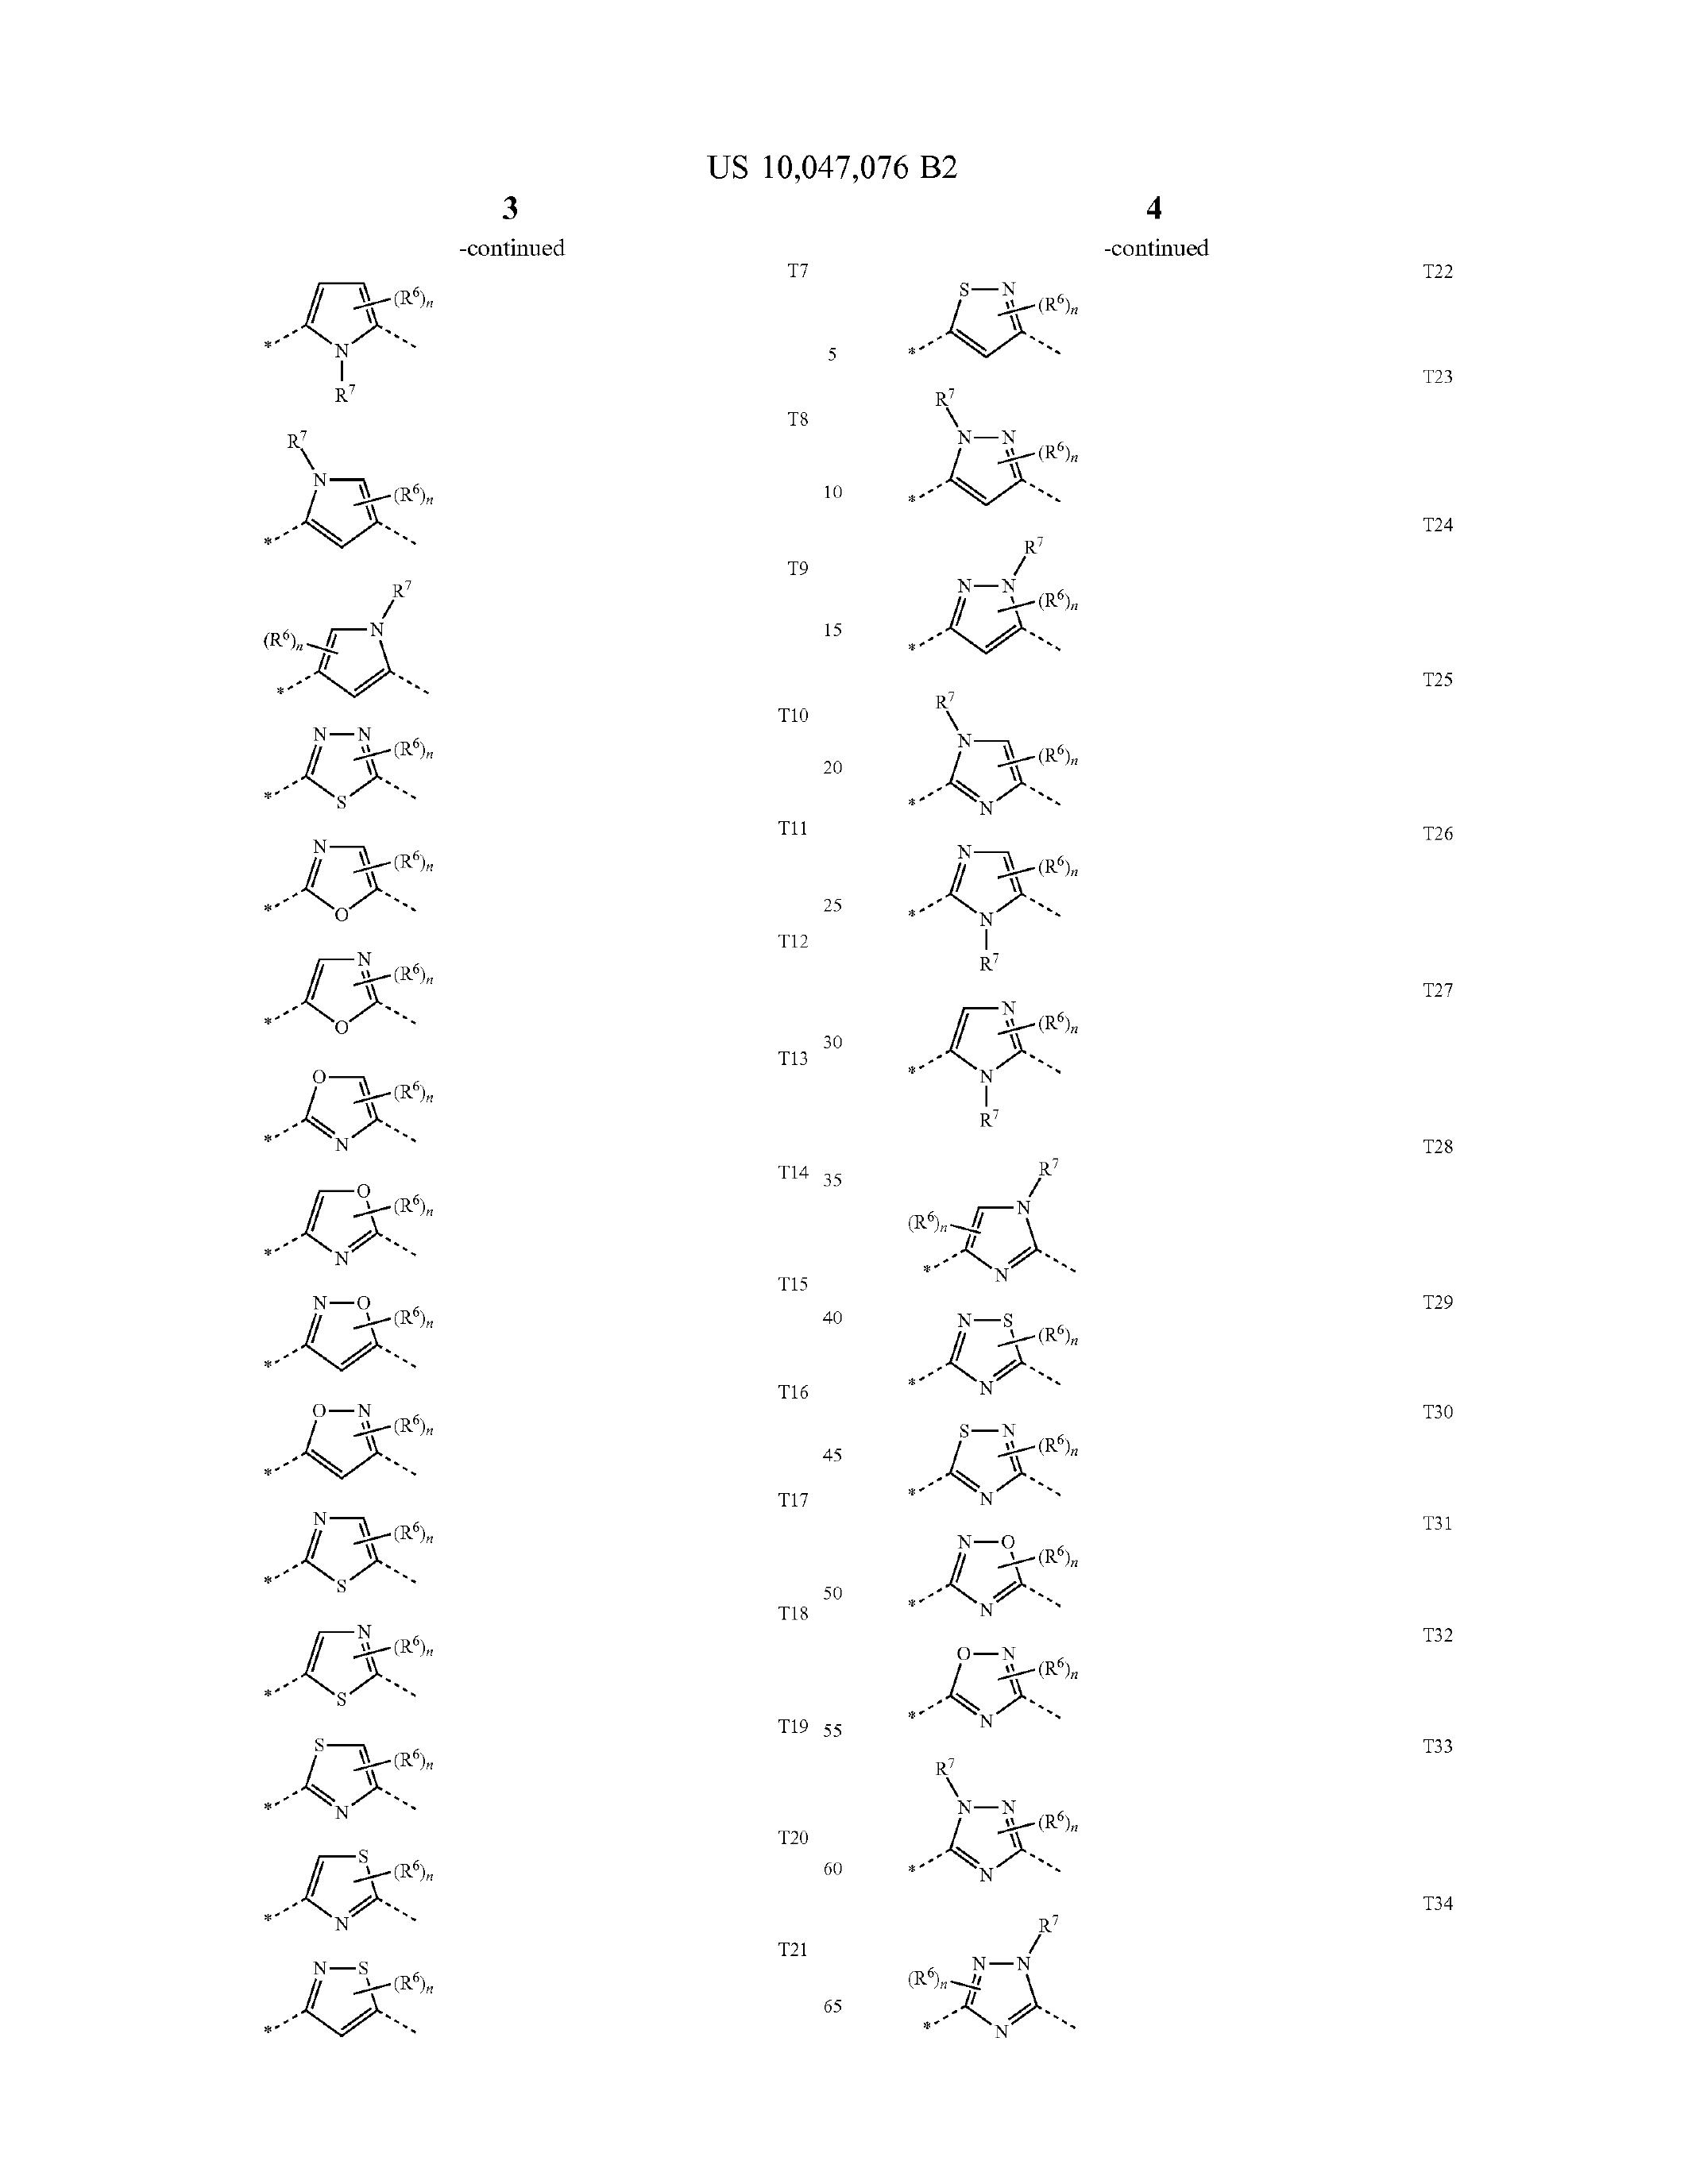substitutes: (188, 243, 481, 573), (871, 1739, 1163, 2056)
